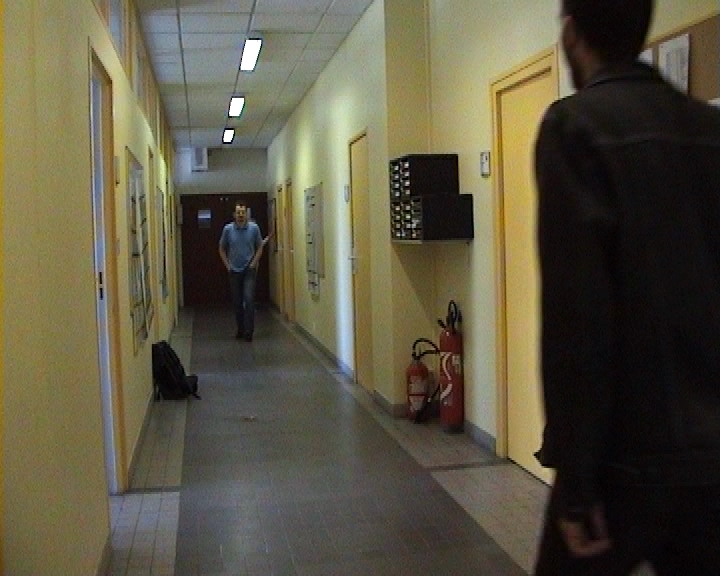leave bag unattended: (137, 315, 209, 423)
